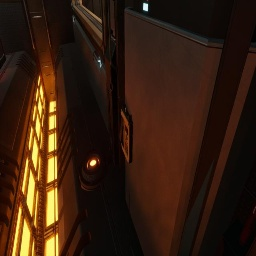EmergencyPhone ,: (118, 96, 133, 164)
